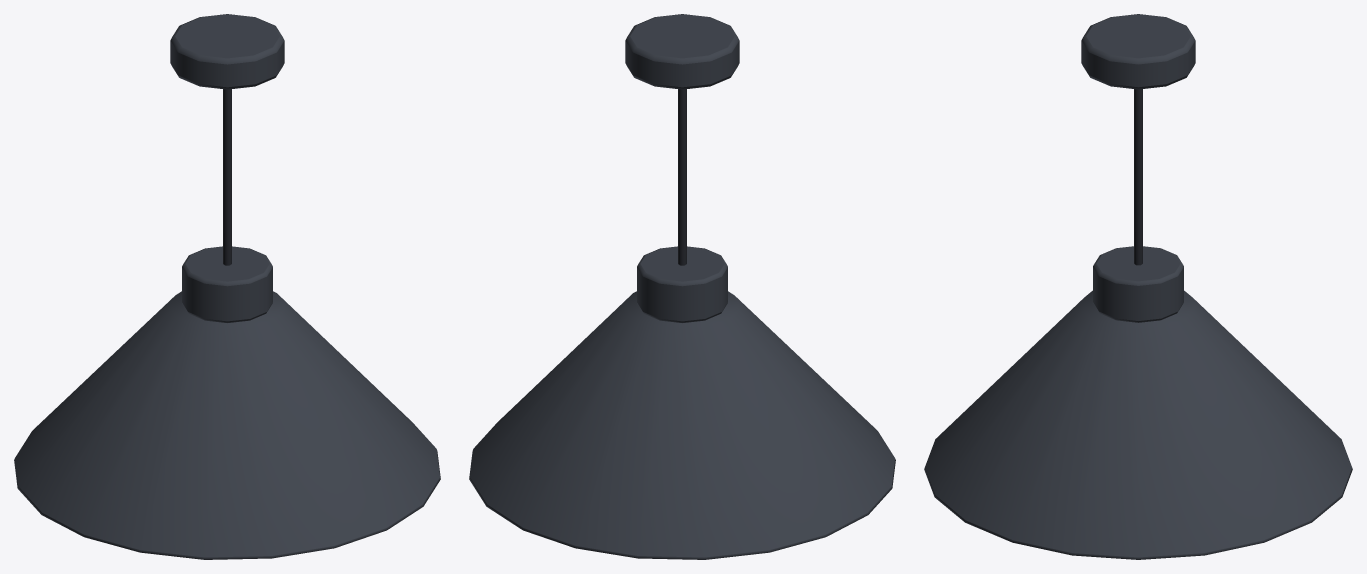
The model's file is lamp_kitchen_lamp.fbx.
3 views of the same model, side by side, from view 1: azimuth 30°, elevation 25°; view 2: azimuth 150°, elevation 25°; view 3: azimuth 270°, elevation 25° (orthographic).
Visible parts, largest first — view 1: lamp_kitchen_lamp; view 2: lamp_kitchen_lamp; view 3: lamp_kitchen_lamp.
Part boxes in pixels (left/top/right/bottom): lamp_kitchen_lamp: left=14, top=14, right=440, bottom=559; lamp_kitchen_lamp: left=469, top=14, right=895, bottom=559; lamp_kitchen_lamp: left=924, top=14, right=1352, bottom=559.
Bounding box in the file's own units: 0.3761 × 0.3761 × 0.42.
